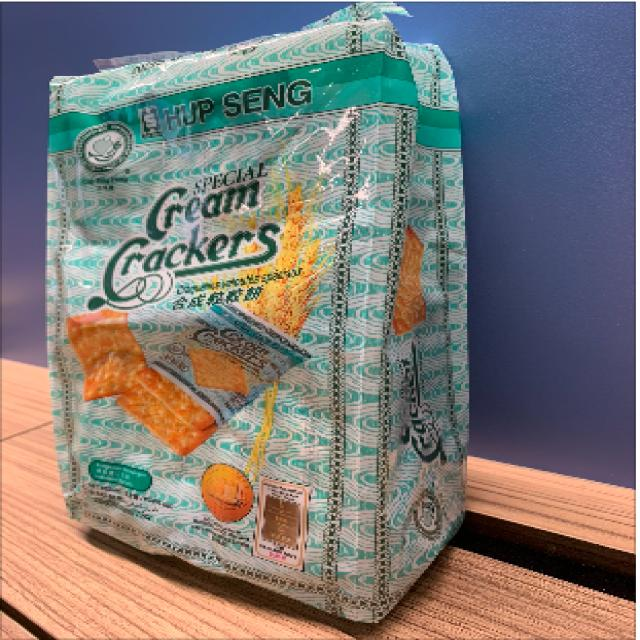object_name: (42, 57, 471, 548)
